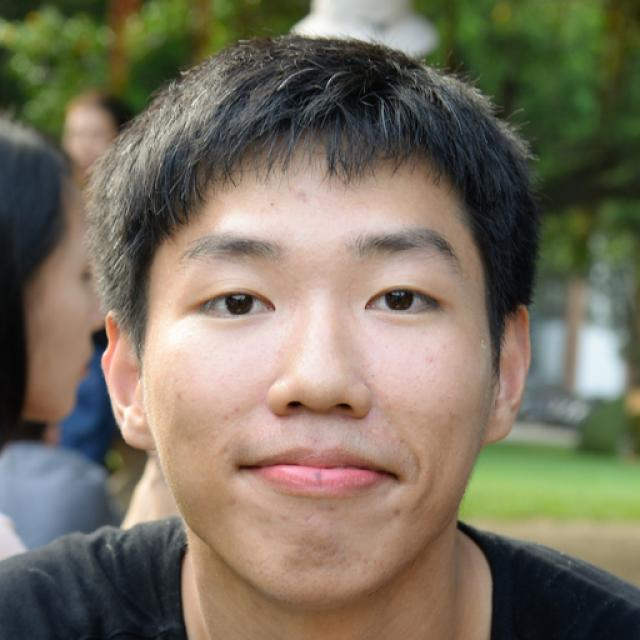content: (142, 143, 492, 608)
